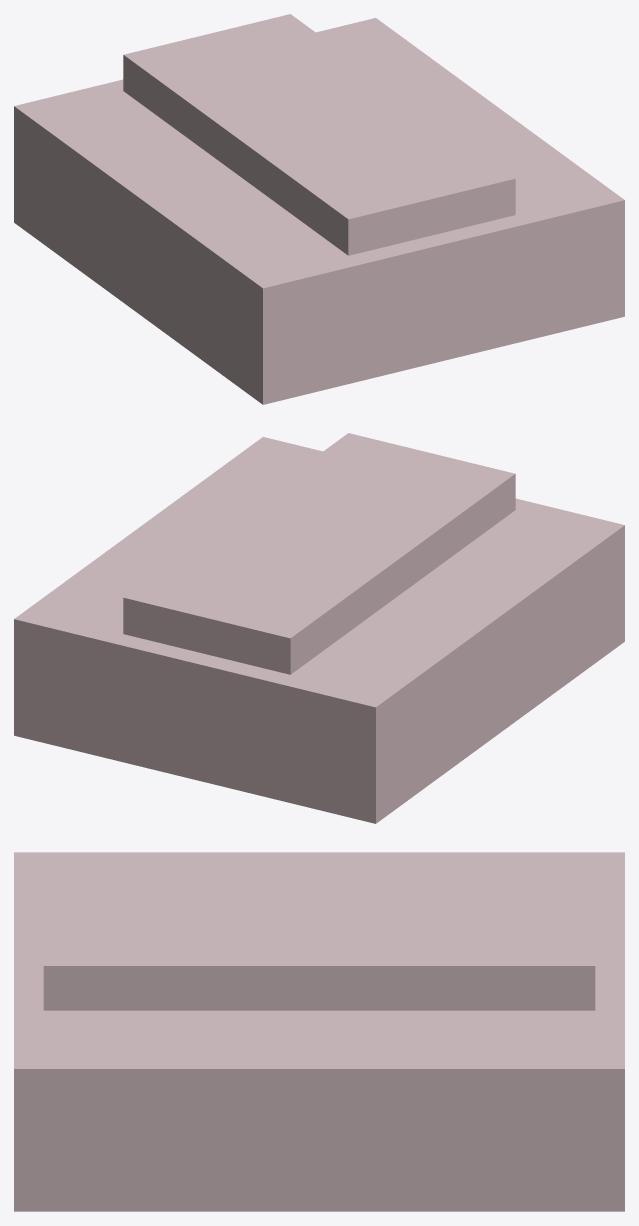
Rendered from ballet_pe.glb.
The picture shows the model from 3 angles, top to bottom: view 1: azimuth 30°, elevation 25°; view 2: azimuth 150°, elevation 25°; view 3: azimuth 270°, elevation 25°; orthographic projection. The views are drawn at different scales.
Visible parts, largest first — view 1: ballet_pe; view 2: ballet_pe; view 3: ballet_pe.
Boxes of the visible parts, <box> form: ballet_pe: <box>14,14,624,404</box>; ballet_pe: <box>14,433,624,823</box>; ballet_pe: <box>14,852,624,1211</box>.
Size of the model in its own units: 0.26 by 0.105 by 0.31.
